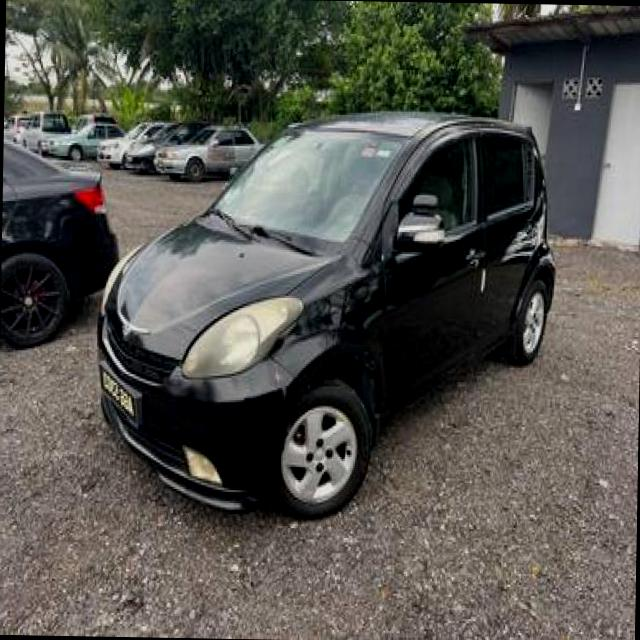PeroduaMyvi: (92, 101, 560, 524)
